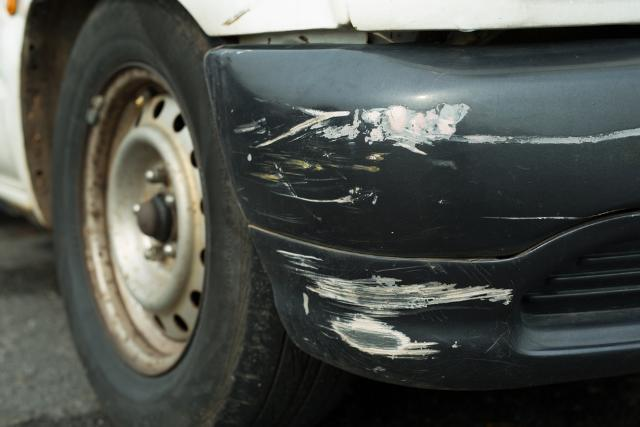Bumper: (217, 40, 579, 370)
